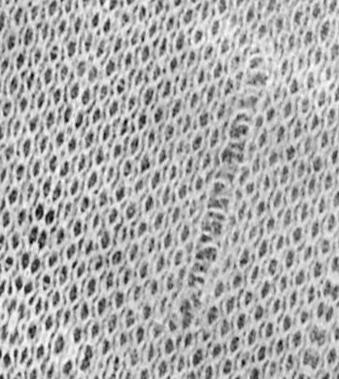slub: (171, 52, 285, 329)
